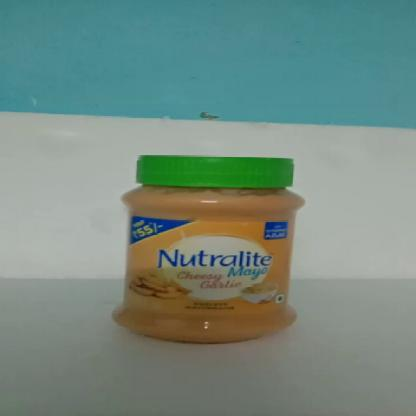Nutralite CHEESY GARLIC MAYO 300g-275g-25g-: (137, 156, 293, 326)
